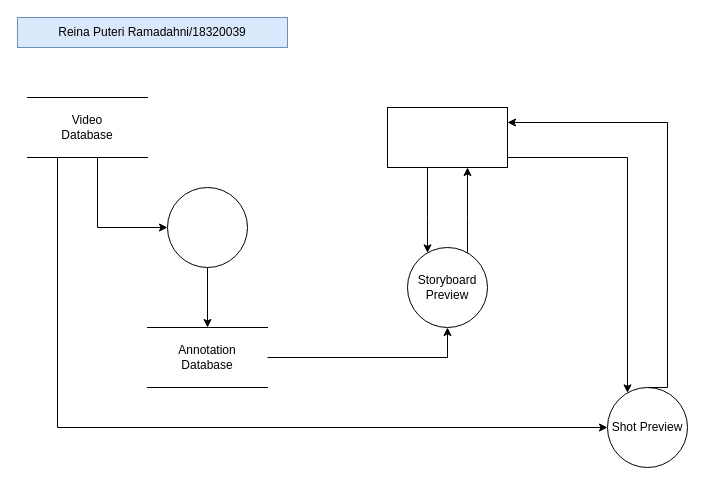
Image size: 705x485. Some labels were removed from this diagram. The box of each missing label's shape, as (x1, y1, x2, y2) in pixels:
Shot Boundary Detection: (166, 186, 248, 268)
User: (386, 106, 508, 168)
